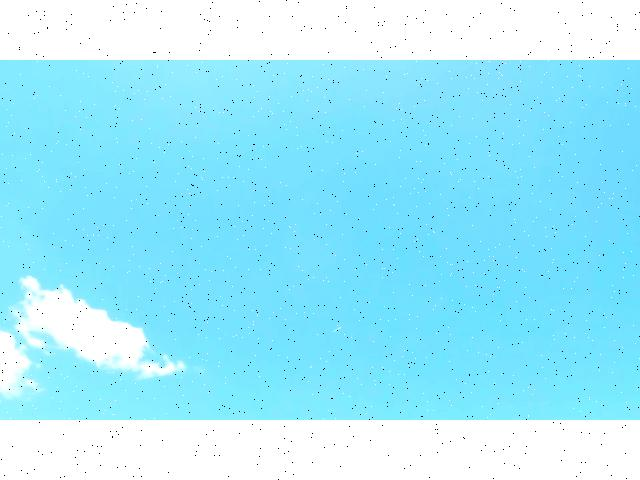Anti-Drone: (322, 319, 354, 340)
